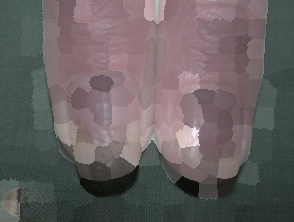Nail_psoriasis: (68, 109, 149, 183)
